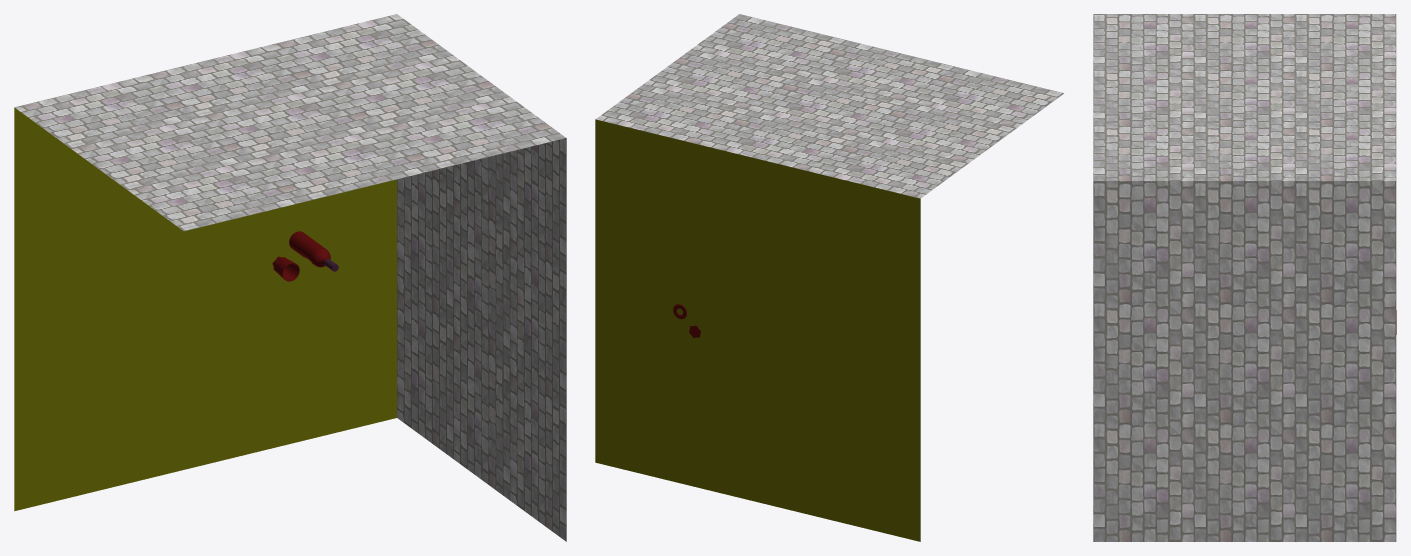
File: transparenz_test.obj
3 views of the same model, side by side, from view 1: azimuth 30°, elevation 25°; view 2: azimuth 150°, elevation 25°; view 3: azimuth 270°, elevation 25° (orthographic). The views are drawn at different scales.
Visible parts, largest first — view 1: Mesh.001_Room_Box, Mesh.004_bottle_Mesh; view 2: Mesh.001_Room_Box; view 3: Mesh.001_Room_Box.
Part boxes in pixels (<box>): Mesh.001_Room_Box: <box>14,14,566,541</box>; Mesh.004_bottle_Mesh: <box>289,231,330,267</box>; Mesh.001_Room_Box: <box>595,14,1063,541</box>; Mesh.001_Room_Box: <box>1093,14,1396,541</box>.
Bounding box in the file's own units: 16.84 × 16.99 × 12.94.
Materials: 4 (1 with a texture image).
